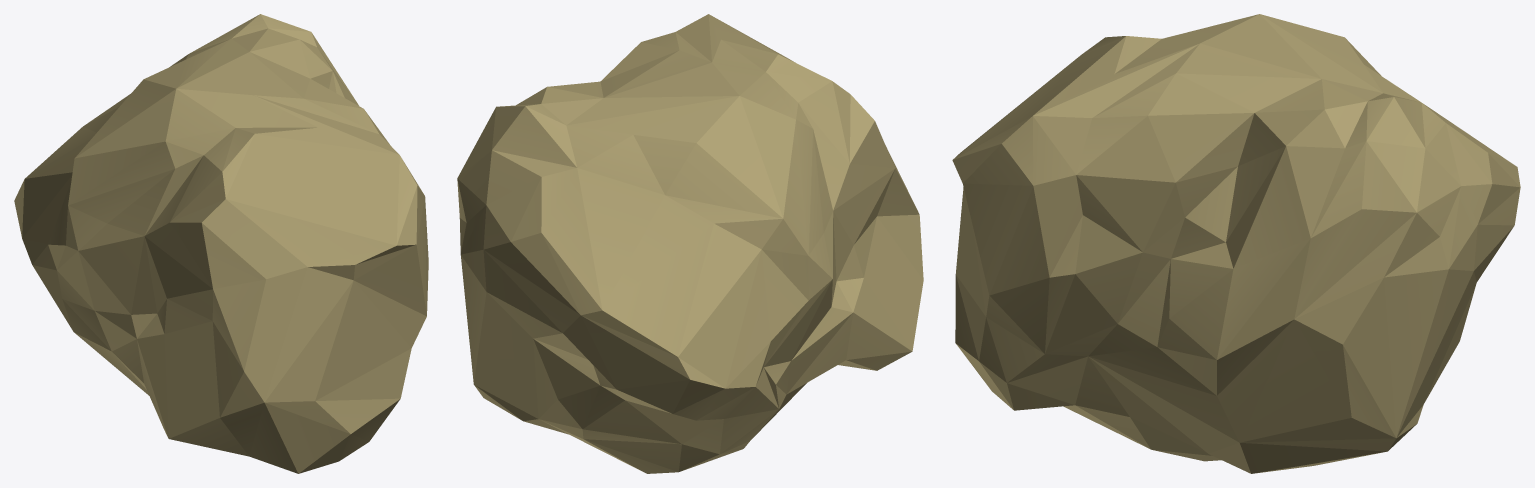
File: SM_rock_14.fbx
3 renders of one model, left to right at view 1: azimuth 30°, elevation 25°; view 2: azimuth 150°, elevation 25°; view 3: azimuth 270°, elevation 25°, orthographic. The views are drawn at different scales.
Visible parts, largest first — view 1: rock_14; view 2: rock_14; view 3: rock_14.
Boxes of the visible parts, x1,y1,x2,y2 form: rock_14: (14, 14, 428, 473); rock_14: (457, 14, 923, 473); rock_14: (952, 14, 1520, 473).
Bounding box in the file's own units: 191 × 212 × 260.
